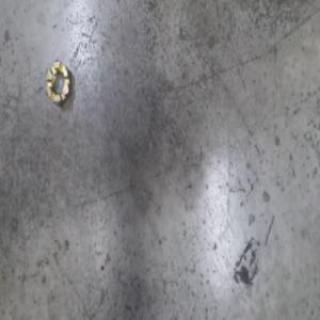Nuttrack_idkeyframe: (43, 56, 72, 108)
